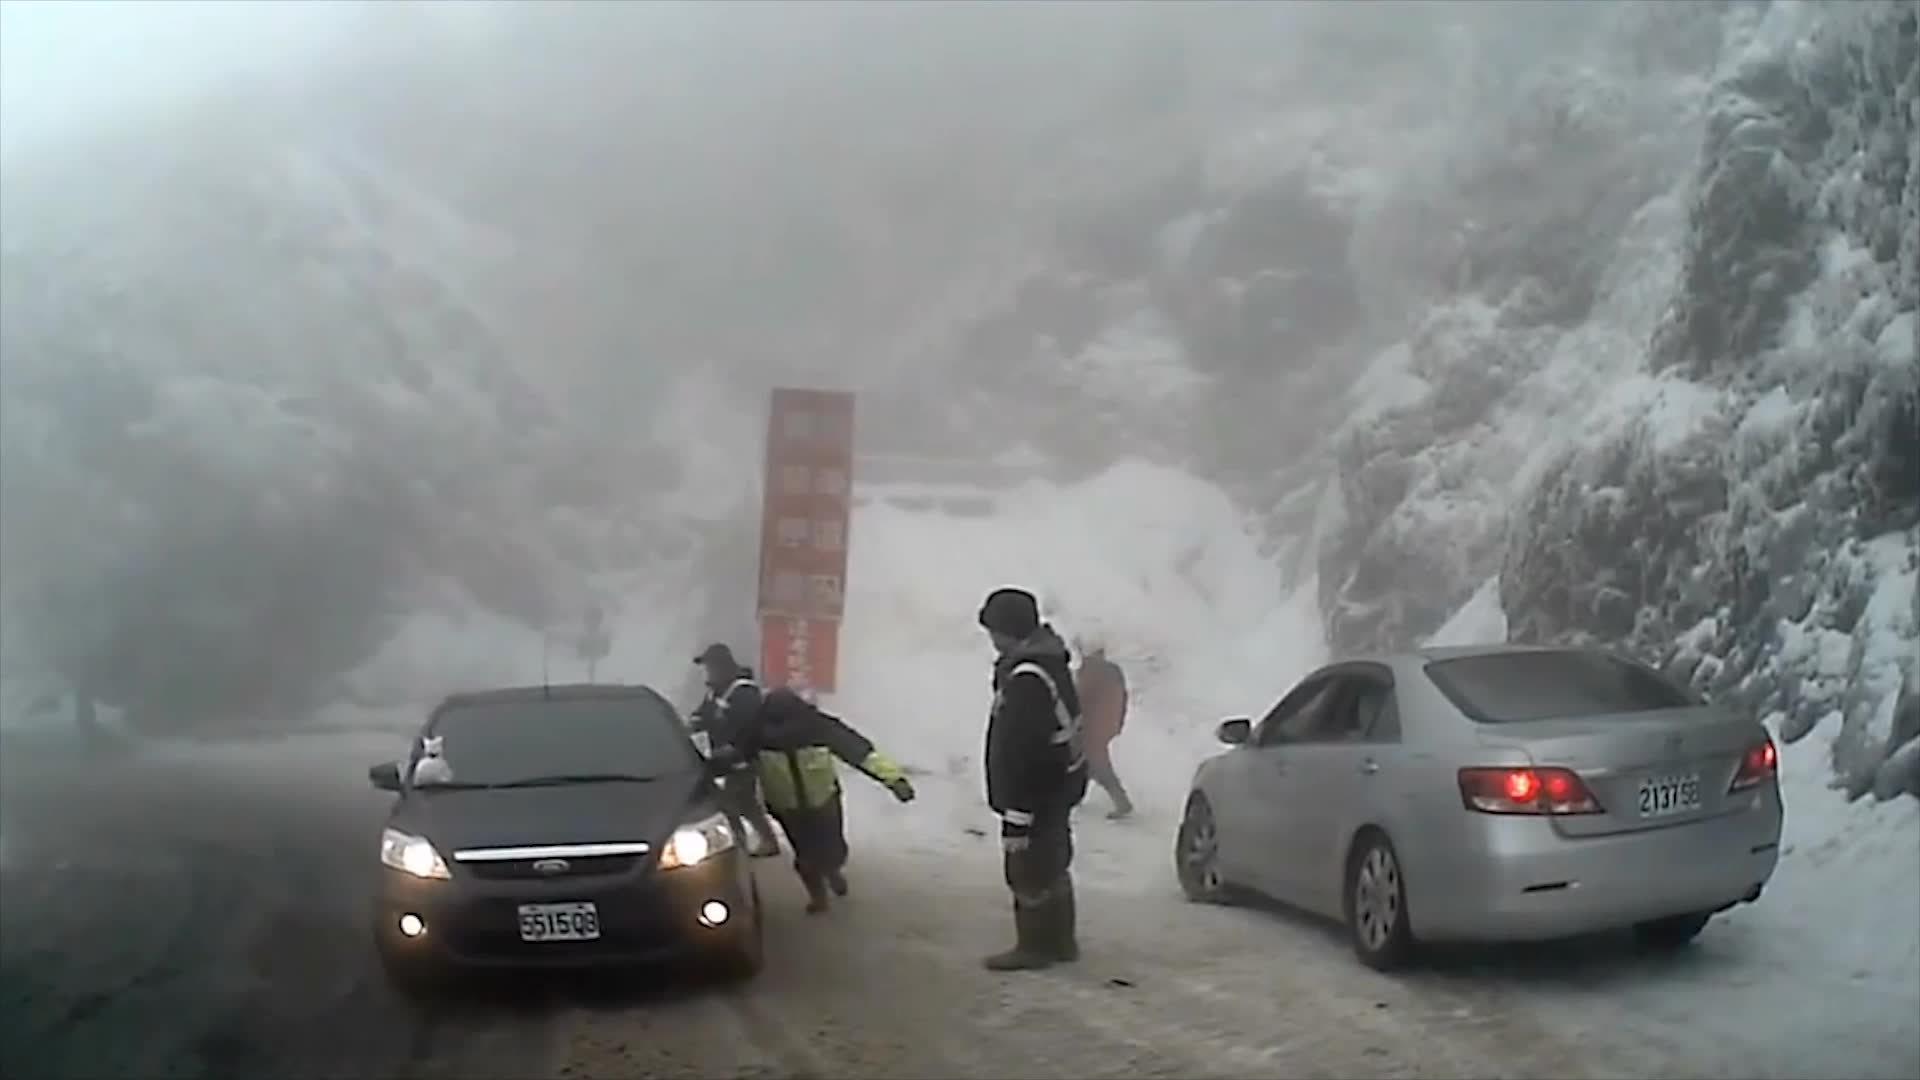pedestrian: (971, 589, 1096, 975), (699, 690, 915, 912), (686, 640, 784, 860), (1060, 626, 1139, 817)
vehicle: (1174, 644, 1784, 971), (360, 682, 767, 994)
